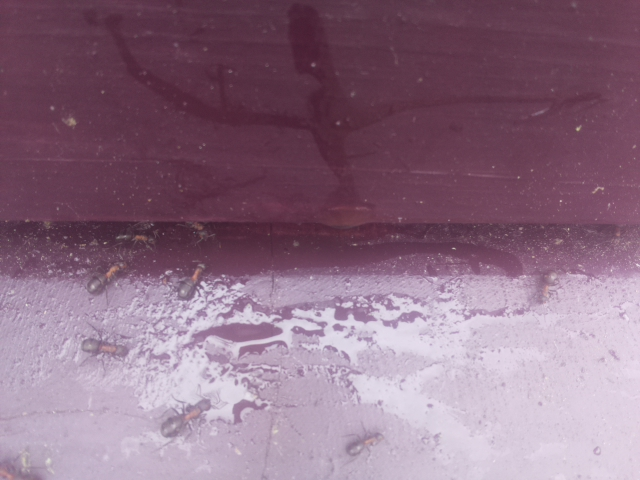ant: (154, 386, 216, 448), (79, 247, 137, 307), (171, 256, 213, 304), (343, 426, 387, 462), (75, 335, 124, 358), (537, 265, 560, 310)
